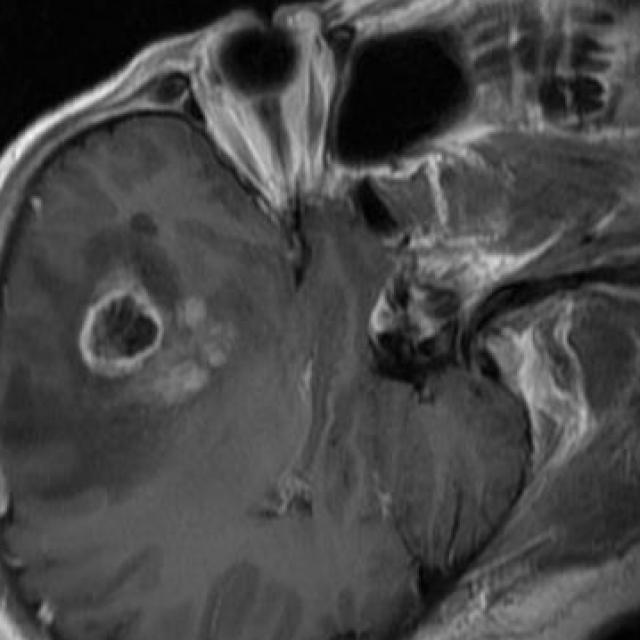glioma: (5, 214, 232, 506)
